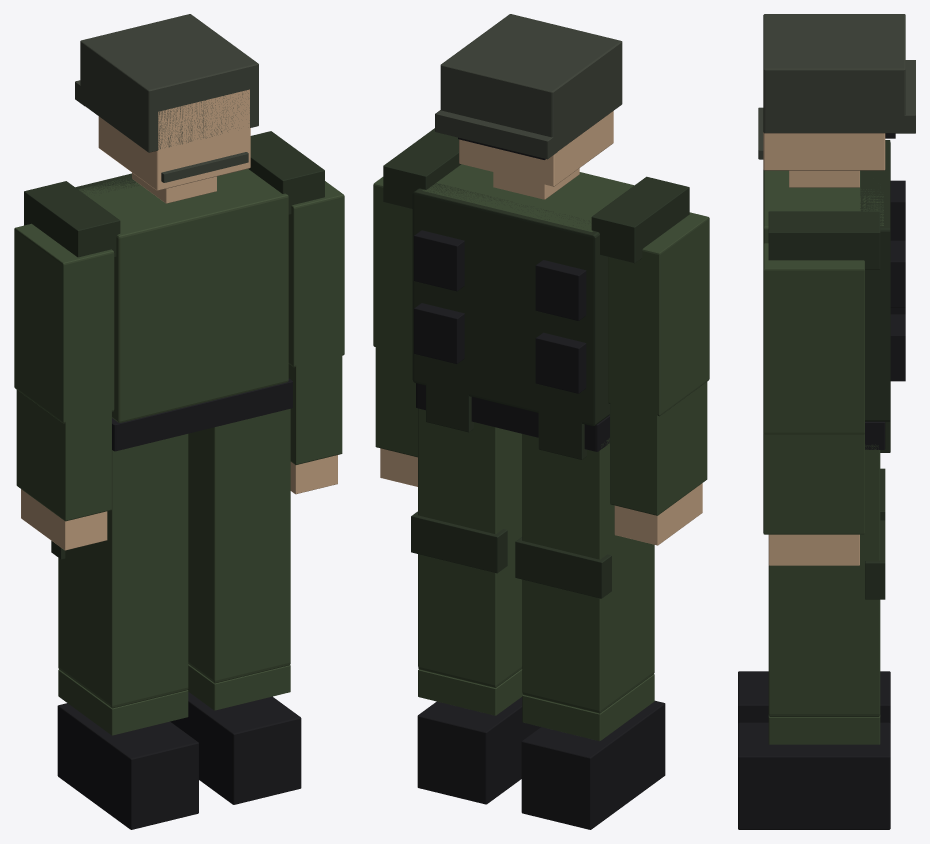
File: player_m.obj
The picture shows the model from 3 angles, left to right: view 1: azimuth 30°, elevation 25°; view 2: azimuth 150°, elevation 25°; view 3: azimuth 270°, elevation 25°; orthographic projection. The views are drawn at different scales.
Visible parts, largest first — view 1: Soldier; view 2: Soldier; view 3: Soldier.
Part boxes in pixels (bbox=[...]): Soldier: bbox=[14, 14, 344, 829]; Soldier: bbox=[373, 14, 709, 829]; Soldier: bbox=[738, 14, 915, 829].
Size of the model in its own units: 0.66 by 1.62 by 0.35.
